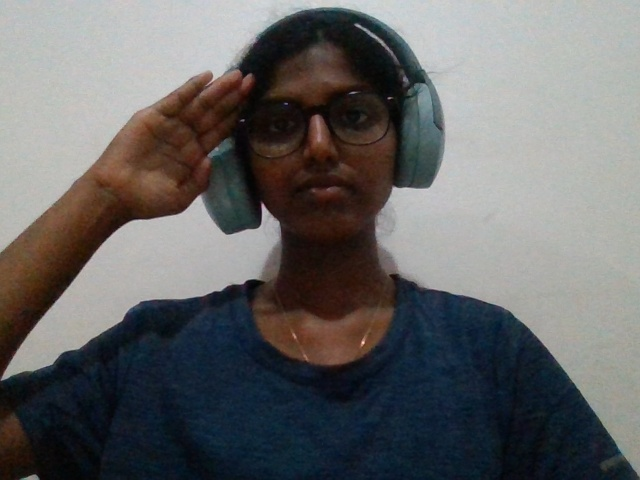Hello: (34, 23, 267, 300)
